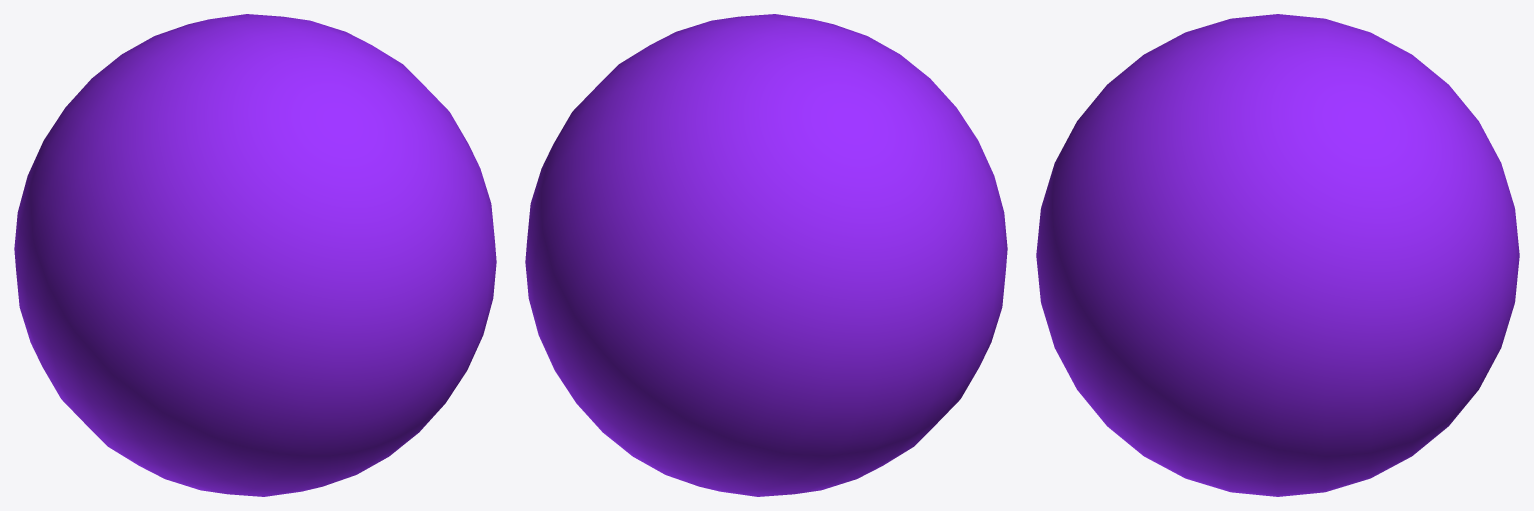
The model's file is SM_GravityFieldCandidateV3.obj.
3 views of the same model, side by side, from view 1: azimuth 30°, elevation 25°; view 2: azimuth 150°, elevation 25°; view 3: azimuth 270°, elevation 25° (orthographic).
Visible parts, largest first — view 1: SM_GravityFieldCandidateV3; view 2: SM_GravityFieldCandidateV3; view 3: SM_GravityFieldCandidateV3.
Boxes of the visible parts, <box> form: SM_GravityFieldCandidateV3: <box>14,14,496,496</box>; SM_GravityFieldCandidateV3: <box>525,14,1007,496</box>; SM_GravityFieldCandidateV3: <box>1036,14,1519,496</box>.
Size of the model in its own units: 200 by 200 by 200.
